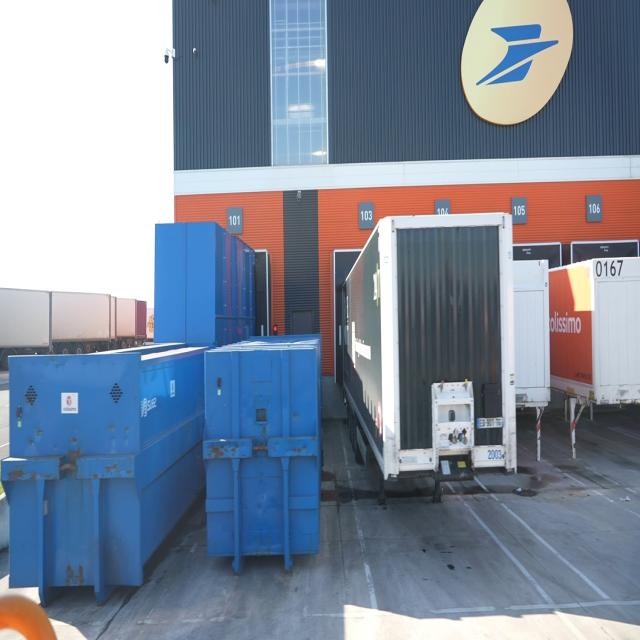Code: (592, 254, 625, 281)
